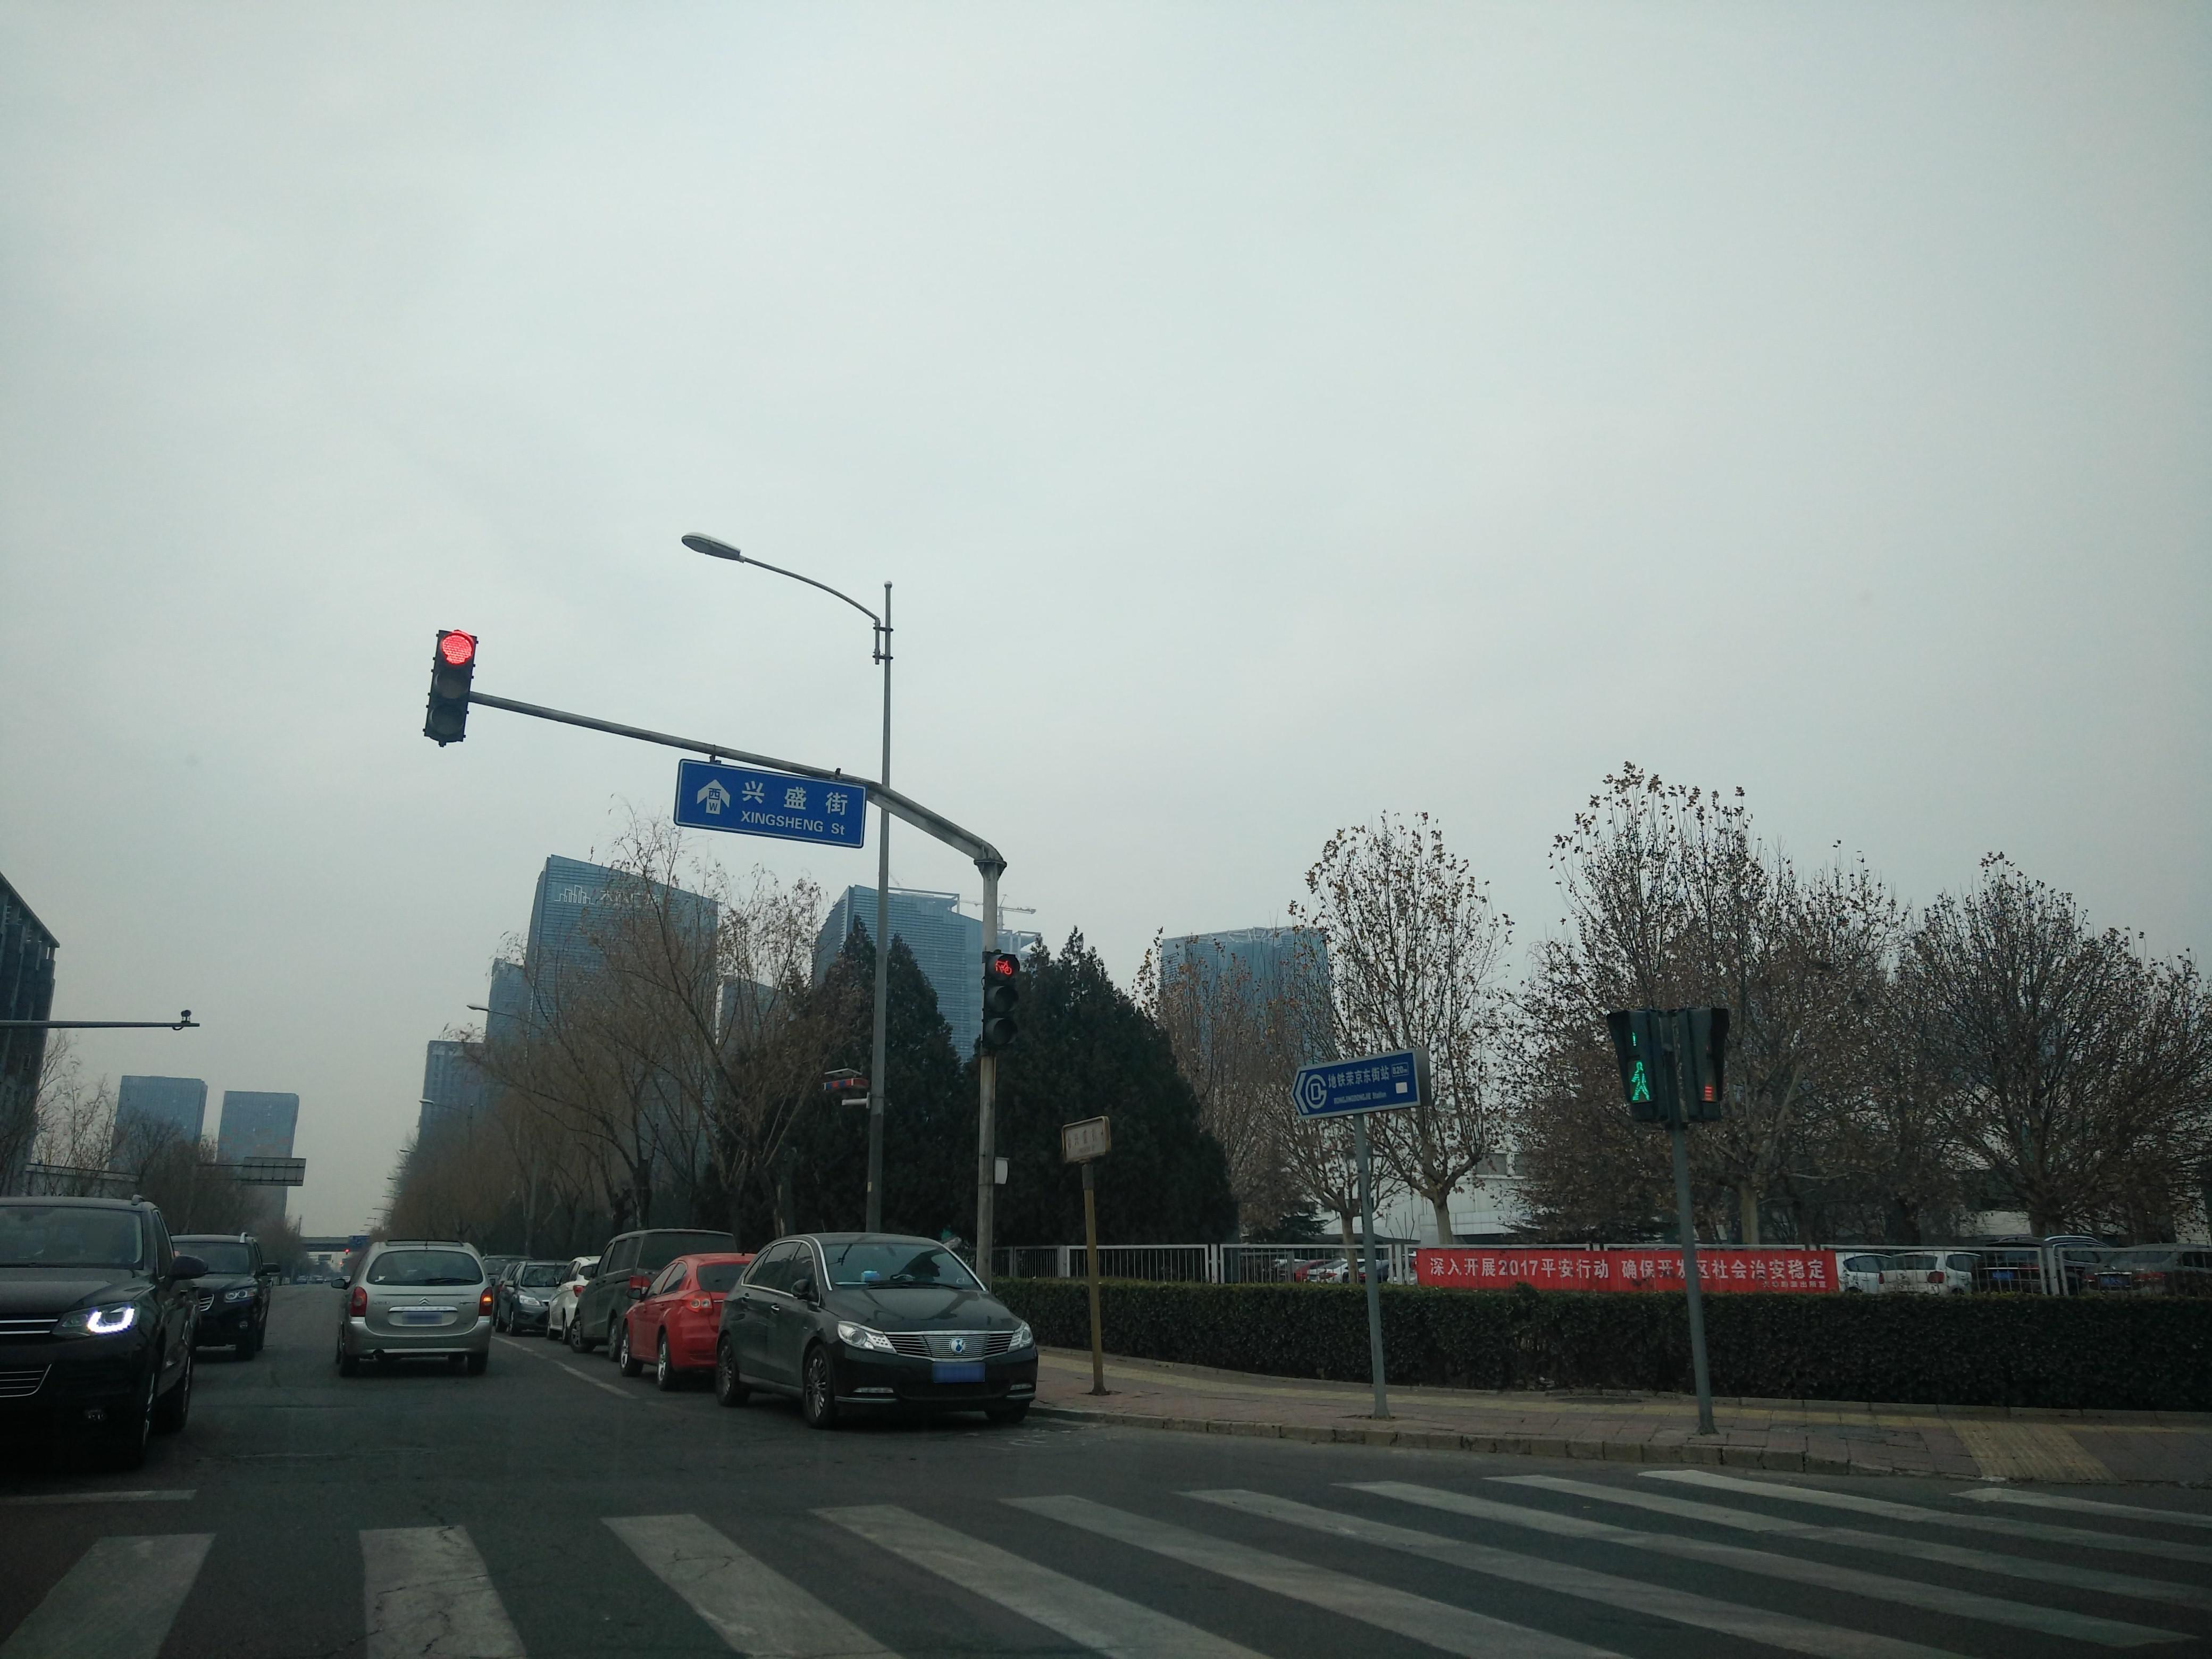vinyl banner: (1386, 1222, 1850, 1312)
